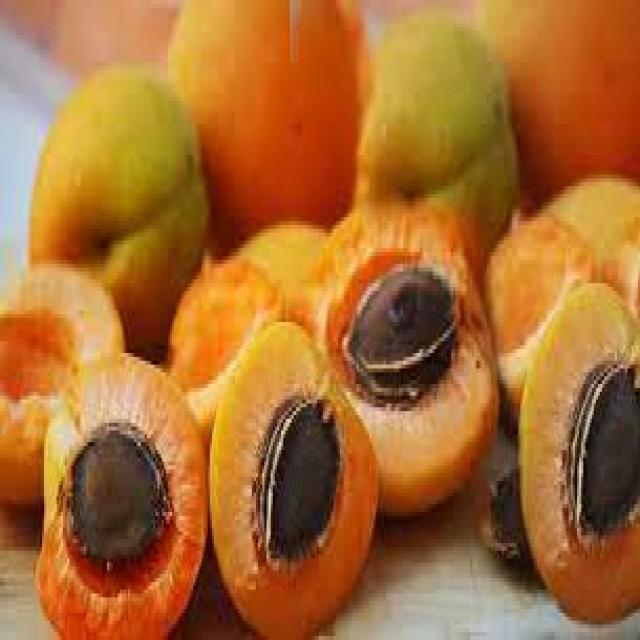kayisi: (43, 31, 295, 327), (358, 17, 632, 234)
kayisi-cekirdegi: (321, 245, 474, 399), (62, 407, 177, 563), (261, 393, 349, 562), (572, 336, 640, 536)
